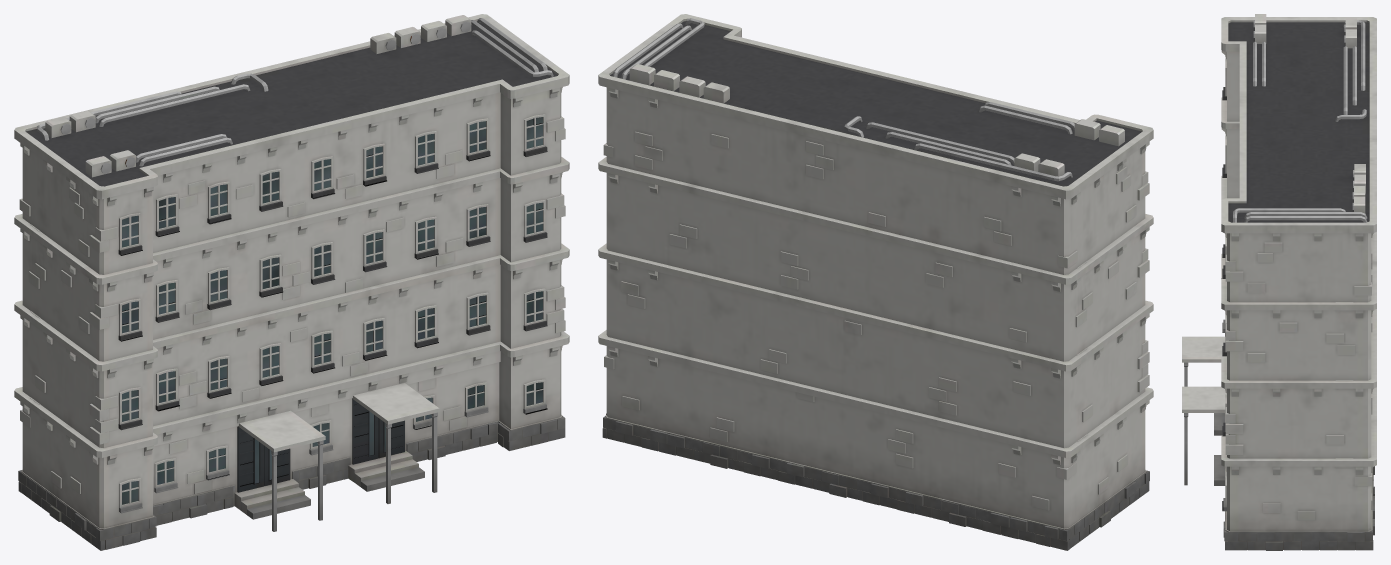
The model's file is 4Story_Wide_2Doors.glb.
The picture shows the model from 3 angles, left to right: view 1: azimuth 30°, elevation 25°; view 2: azimuth 150°, elevation 25°; view 3: azimuth 270°, elevation 25°; orthographic projection. The views are drawn at different scales.
Visible parts, largest first — view 1: 4Story_Wide_2Doors_high; view 2: 4Story_Wide_2Doors_high; view 3: 4Story_Wide_2Doors_high.
Part boxes in pixels (x1,y1,x2,y2): 4Story_Wide_2Doors_high: [14, 14, 569, 550]; 4Story_Wide_2Doors_high: [598, 14, 1153, 550]; 4Story_Wide_2Doors_high: [1182, 14, 1376, 550].
Bounding box in the file's own units: 6.83 × 5.15 × 2.7.
2 materials, 2 textured.
